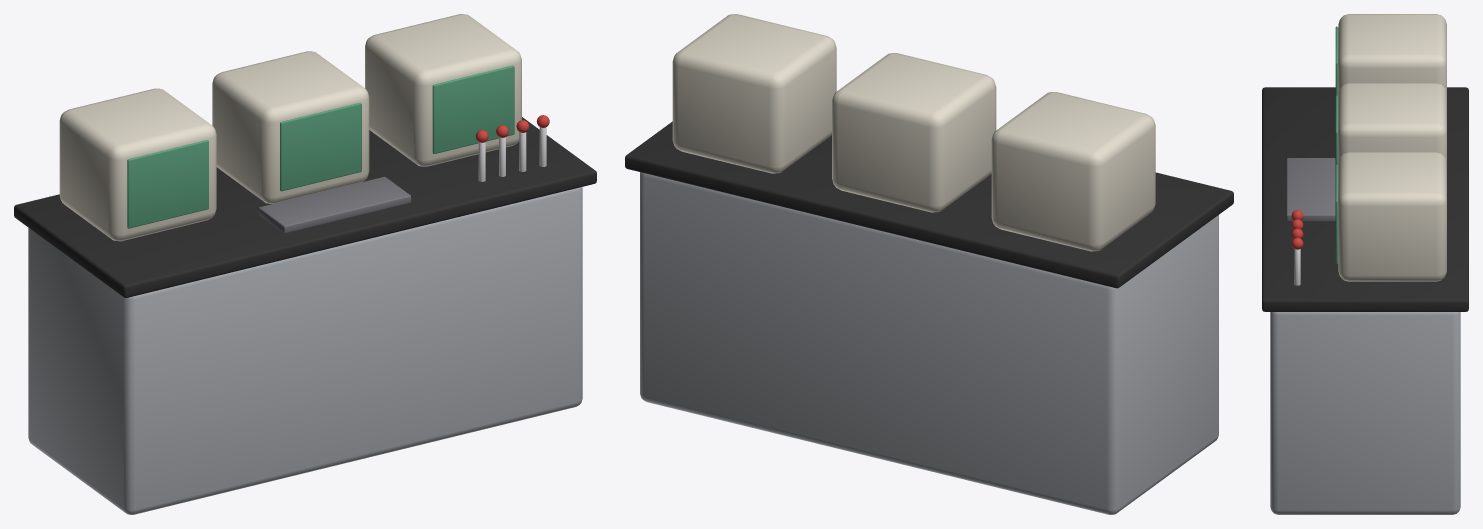
Rendered from desk.glb.
The picture shows the model from 3 angles, left to right: view 1: azimuth 30°, elevation 25°; view 2: azimuth 150°, elevation 25°; view 3: azimuth 270°, elevation 25°; orthographic projection. The views are drawn at different scales.
Parts seen in each view (by area): view 1: desk, top, crt0, crt1, crt2, scr1, scr0, scr2, keys; view 2: desk, top, crt0, crt1, crt2; view 3: desk, top, crt2, crt0, crt1, keys, scr2, scr0, scr1, lever3.
Part boxes in pixels (x1,y1,x2,y2): desk: [28, 187, 582, 514]; top: [14, 117, 596, 297]; crt0: [59, 88, 216, 241]; crt1: [212, 51, 369, 203]; crt2: [365, 14, 521, 166]; scr1: [280, 102, 361, 191]; scr0: [127, 140, 208, 228]; scr2: [432, 65, 514, 153]; keys: [258, 176, 411, 233]; desk: [640, 172, 1218, 514]; top: [625, 121, 1233, 288]; crt0: [991, 92, 1155, 251]; crt1: [832, 53, 996, 212]; crt2: [672, 14, 836, 173]; desk: [1270, 312, 1460, 514]; top: [1262, 87, 1468, 311]; crt2: [1338, 152, 1446, 281]; crt0: [1338, 14, 1446, 92]; crt1: [1338, 83, 1446, 161]; keys: [1286, 158, 1335, 221]; scr2: [1335, 164, 1338, 264]; scr0: [1335, 26, 1338, 95]; scr1: [1335, 95, 1338, 164]; lever3: [1294, 249, 1300, 285].
Size of the model in its own units: 1.86 by 1.26 by 0.76.
